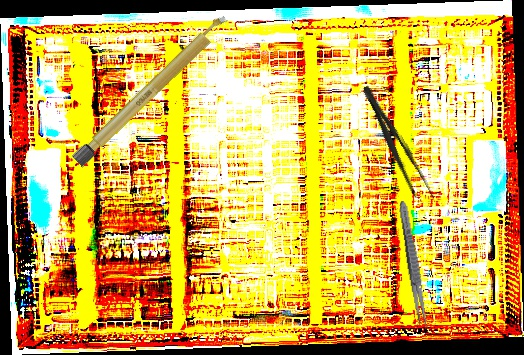Dressing Forceps: (354, 81, 438, 207), (395, 199, 432, 332)
Scalpel Handle: (71, 12, 232, 168)
